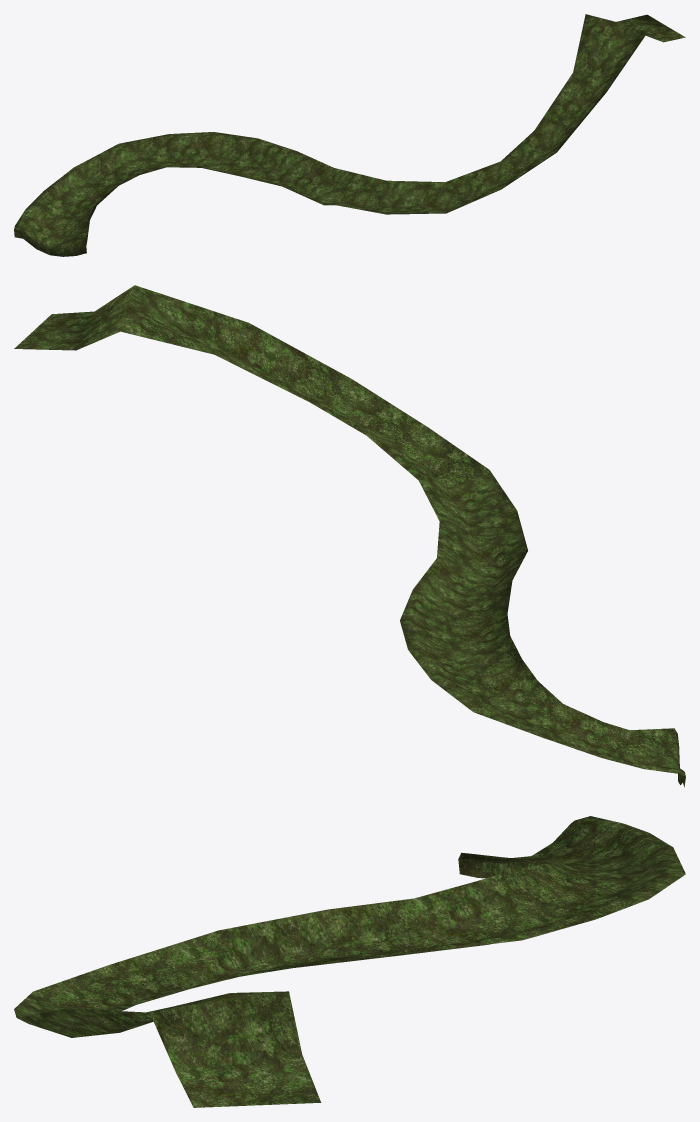
File: OVERHILL_A_01_LINE118.fbx
3 views of the same model, one above another, from view 1: azimuth 30°, elevation 25°; view 2: azimuth 150°, elevation 25°; view 3: azimuth 270°, elevation 25° (orthographic). The views are drawn at different scales.
Visible parts, largest first — view 1: OVERHILL_A_01_LINE118; view 2: OVERHILL_A_01_LINE118; view 3: OVERHILL_A_01_LINE118.
Part boxes in pixels (x1,y1,x2,y2): OVERHILL_A_01_LINE118: (14,14,685,256); OVERHILL_A_01_LINE118: (14,285,685,787); OVERHILL_A_01_LINE118: (14,816,685,1107).
Size of the model in its own units: 217885 by 63317 by 115725.
Materials: 1 (1 with a texture image).
